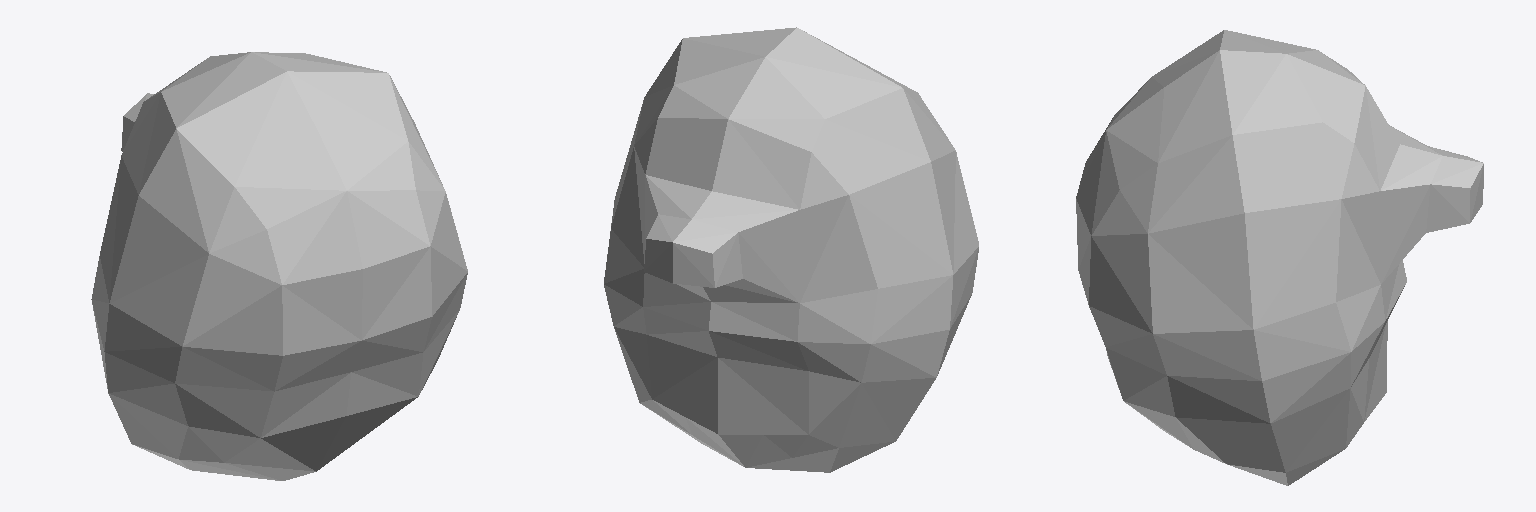
Rendered from arixbrain.obj.
3 renders of one model, left to right at view 1: azimuth 30°, elevation 25°; view 2: azimuth 150°, elevation 25°; view 3: azimuth 270°, elevation 25°, orthographic.
Parts seen in each view (by area): view 1: arixbrain; view 2: arixbrain; view 3: arixbrain.
Boxes of the visible parts, x1=… form: arixbrain: x1=91, y1=52, x2=467, y2=480; arixbrain: x1=604, y1=27, x2=978, y2=472; arixbrain: x1=1076, y1=30, x2=1483, y2=485.
Size of the model in its own units: 0.3719 by 0.4398 by 0.394.